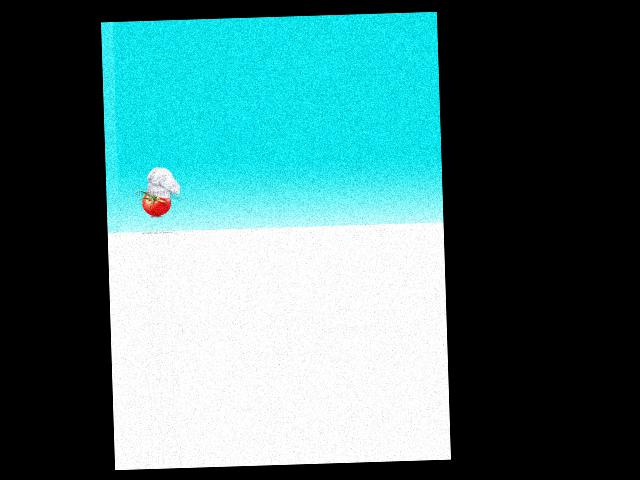tomato: (142, 191, 171, 215)
